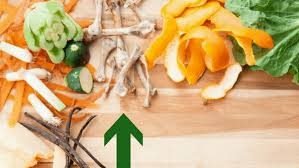kitchen_waste: (20, 2, 85, 64), (210, 17, 275, 68), (112, 46, 162, 109), (141, 5, 176, 73), (188, 26, 232, 75), (82, 17, 159, 41), (198, 63, 245, 100), (180, 19, 204, 87), (62, 64, 103, 96), (58, 37, 93, 69), (84, 1, 108, 38)
